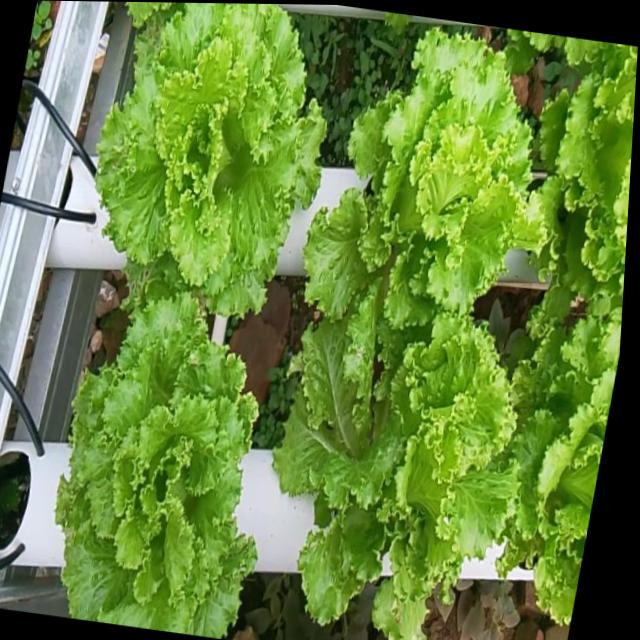Mature: (266, 279, 509, 632), (45, 279, 248, 635), (293, 16, 535, 312), (83, 2, 315, 302)
